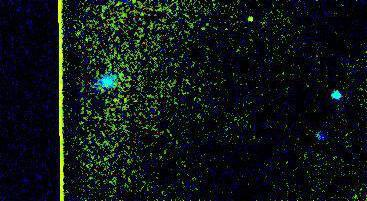star: (239, 7, 269, 37)
